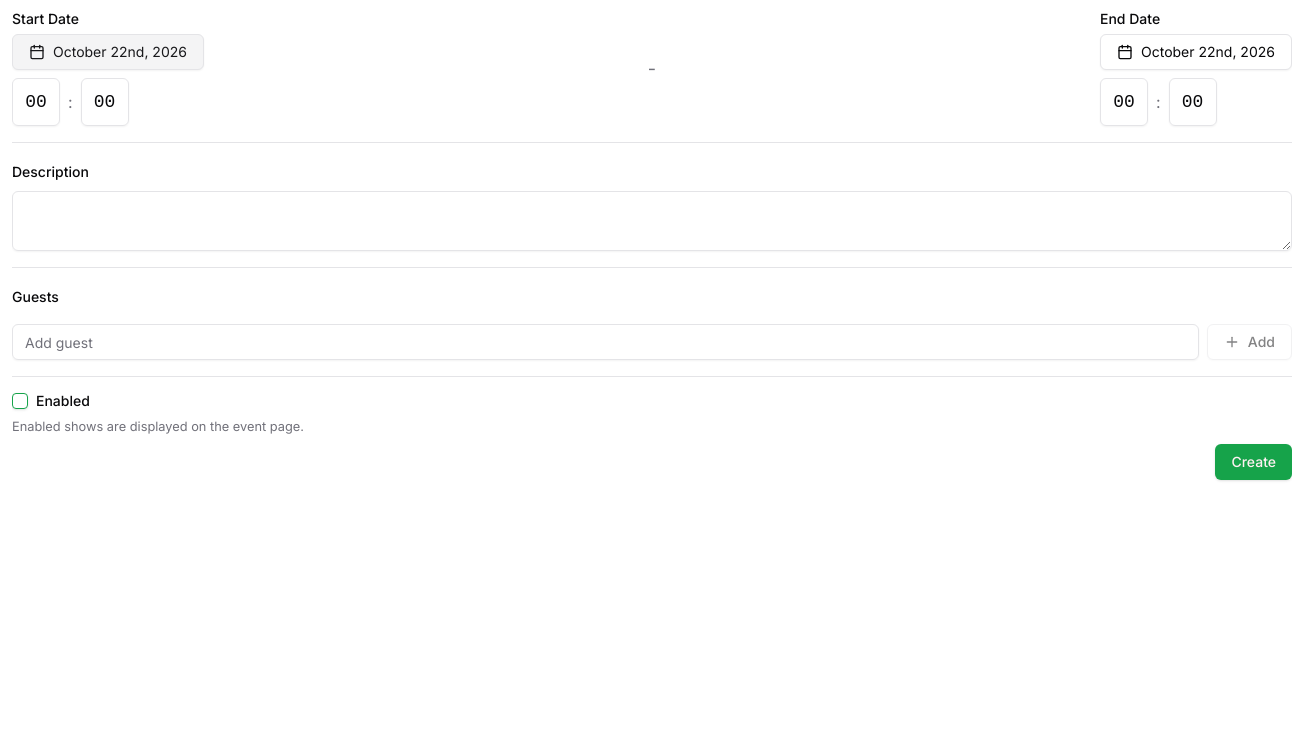
Test case: CreateShowForm › adds and removes guests correctly
The width and height of the screenshot is (1304, 732).
Type "John Doe" into the field with placeholder "Add guest" at (605, 342), box [12, 324, 1199, 360]
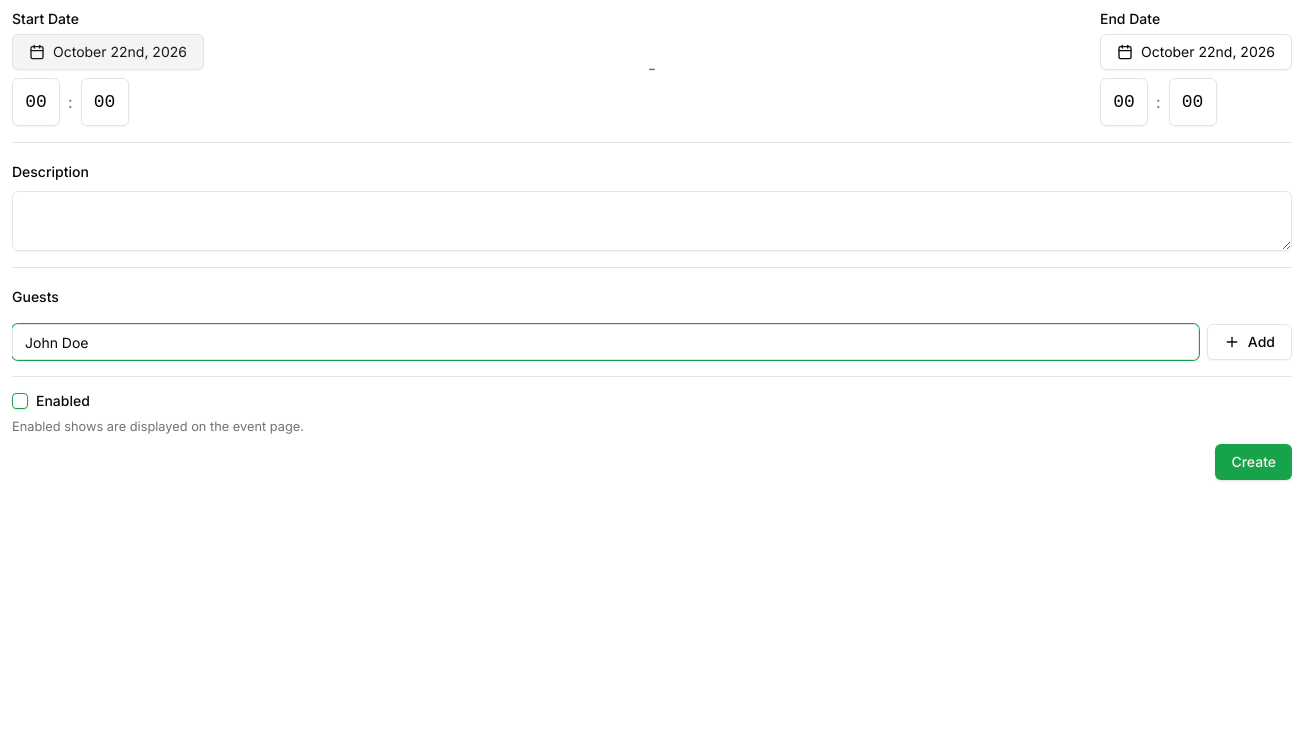
Click the button "Add" at (1249, 342), box [1207, 324, 1292, 360]
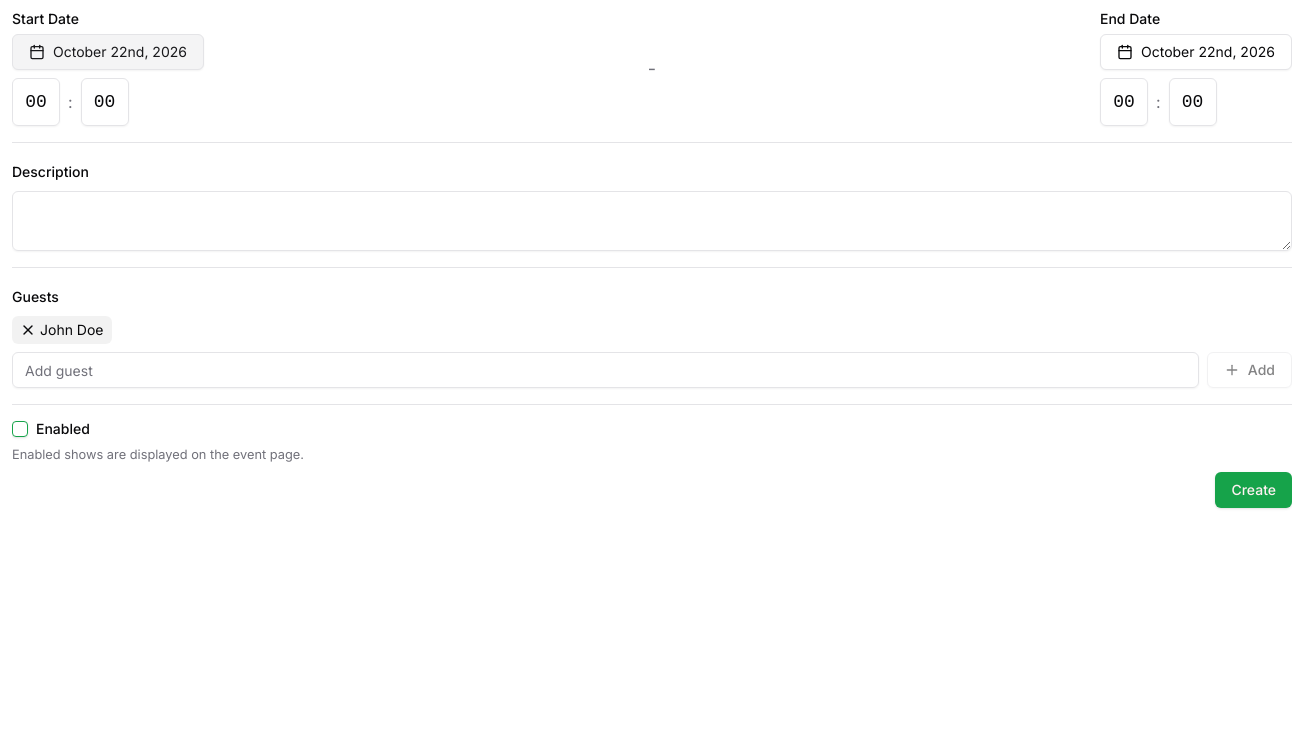
Now the text "John Doe" is shown, box [12, 316, 112, 344]
Click the button named "remove" at (28, 330), box [20, 322, 36, 338]
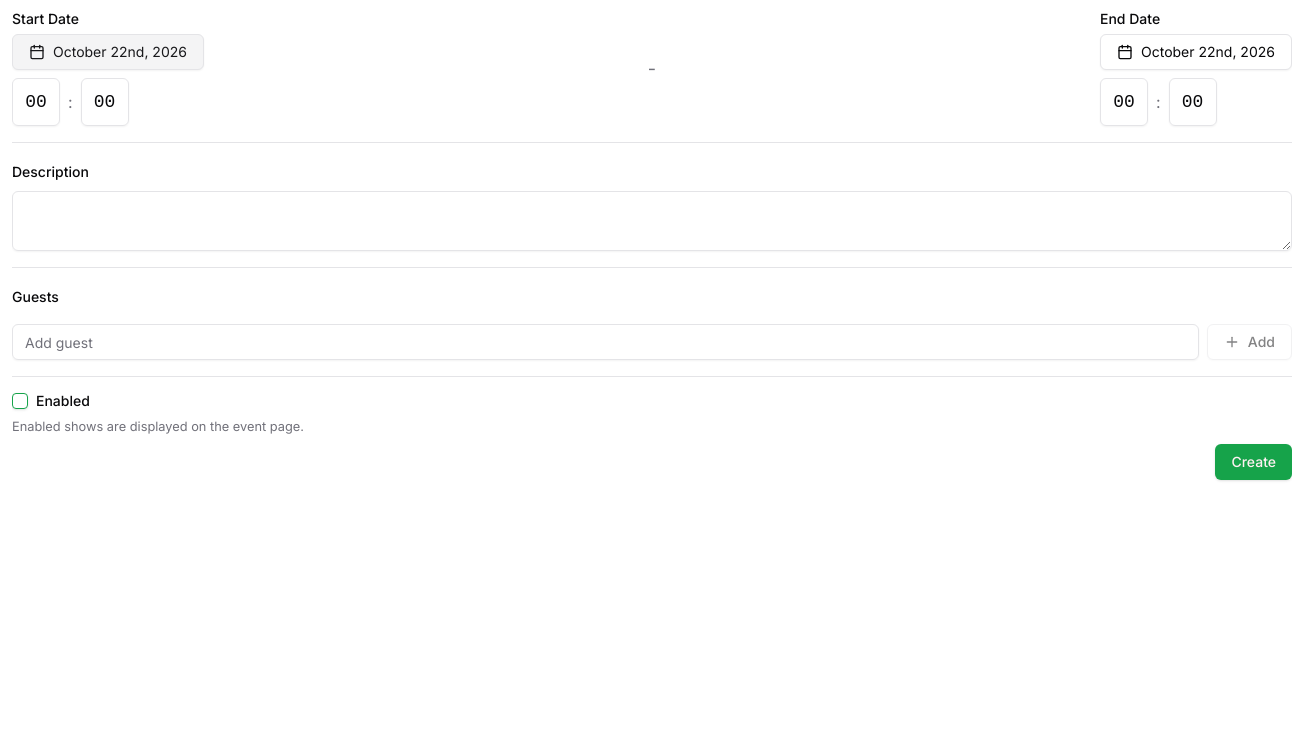
Now the text "John Doe" is gone
